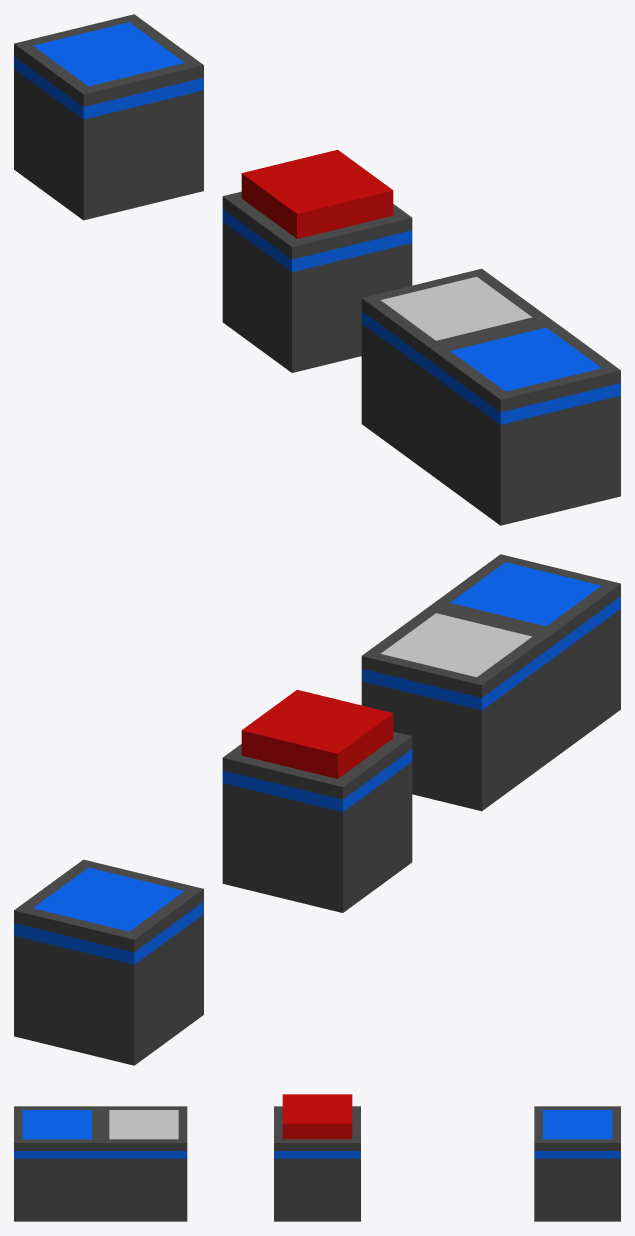
File: ferry.fbx
The picture shows the model from 3 angles, top to bottom: view 1: azimuth 30°, elevation 25°; view 2: azimuth 150°, elevation 25°; view 3: azimuth 270°, elevation 25°; orthographic projection. The views are drawn at different scales.
Parts seen in each view (by area): view 1: Ferry, FerryControl, MovingPart, FerryButton; view 2: Ferry, MovingPart, FerryControl, FerryButton; view 3: Ferry, MovingPart, FerryControl, FerryButton.
Part boxes in pixels (box(x1,y1,x2,y2)): Ferry: box(14, 14, 620, 525); FerryControl: box(222, 191, 412, 372); MovingPart: box(361, 268, 550, 474); FerryButton: box(241, 149, 393, 238); Ferry: box(14, 554, 620, 1065); MovingPart: box(361, 605, 551, 811); FerryControl: box(222, 731, 412, 912); FerryButton: box(241, 689, 393, 778); Ferry: box(14, 1106, 620, 1221); MovingPart: box(100, 1106, 187, 1221); FerryControl: box(274, 1106, 360, 1221); FerryButton: box(282, 1094, 352, 1139).
Size of the model in its own units: 100 by 120 by 700.
